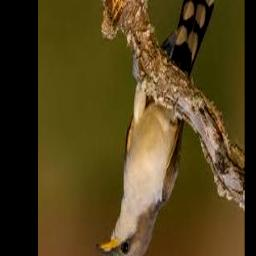Cuckoo: (96, 0, 216, 256)
